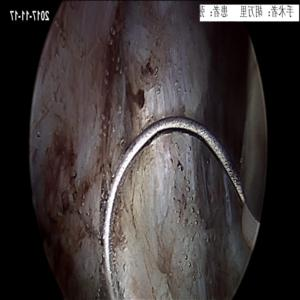film: (55, 31, 241, 270)
